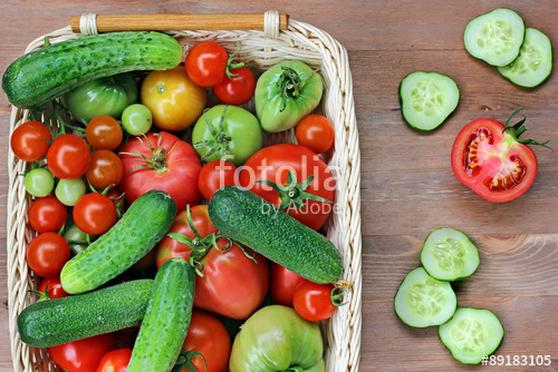cucumber: (6, 30, 186, 101), (209, 189, 344, 282), (62, 195, 169, 291)
tomato: (186, 41, 232, 88), (51, 136, 87, 176)
